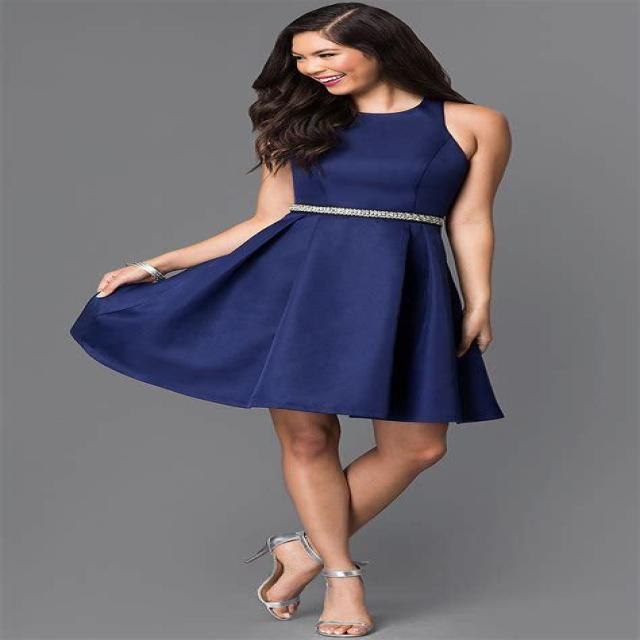dress: (71, 95, 506, 425)
